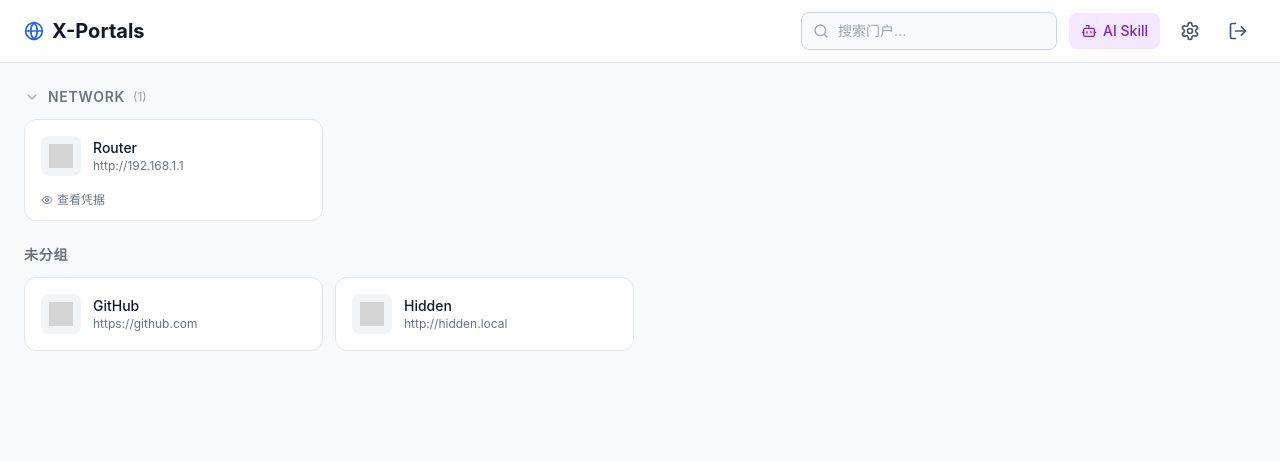
Test: Home page › hides credentials when toggle is clicked again
Click the button "查看凭据".
click(73, 200)  # box [41,192,105,208]
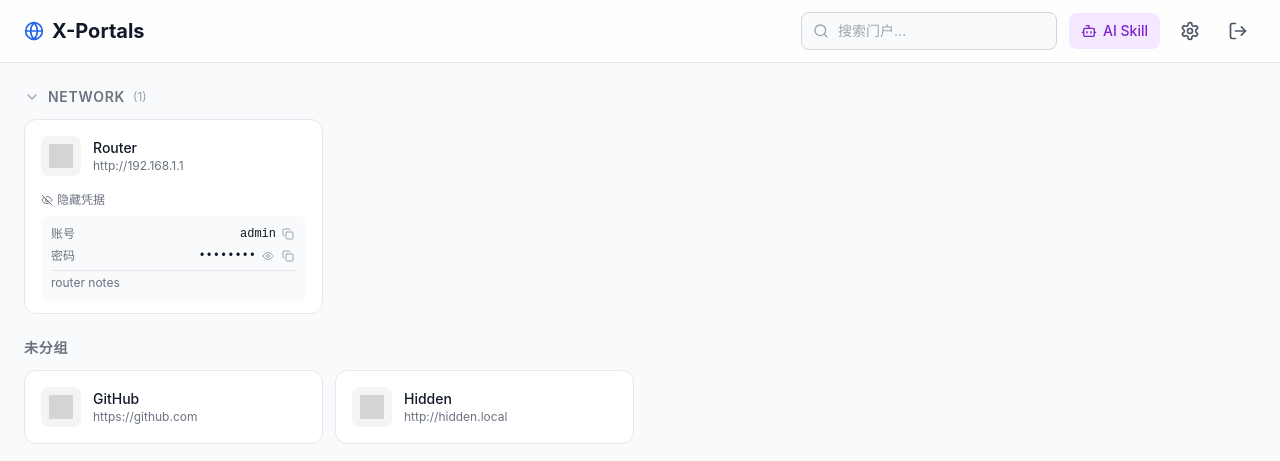
Check: the button "隐藏凭据" is shown
Click the button "隐藏凭据".
click(73, 200)  # box [41,192,105,208]
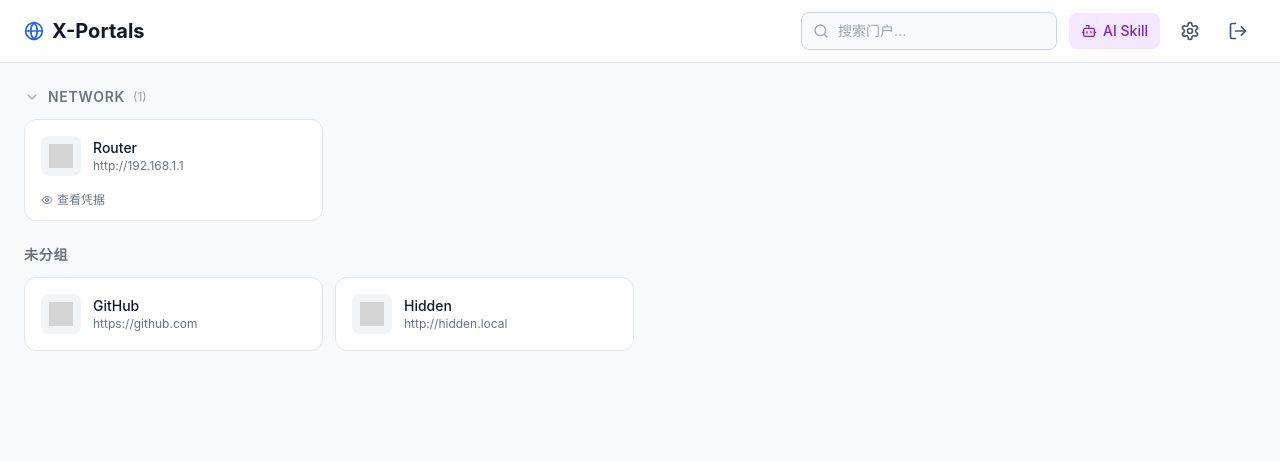
Check: the text "admin" is gone
